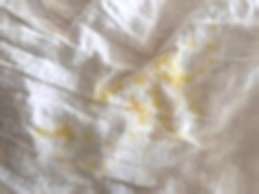mustard: (92, 67, 143, 108), (184, 88, 210, 129), (170, 62, 202, 88), (155, 103, 177, 138), (149, 51, 171, 81), (132, 95, 155, 123), (55, 162, 101, 175), (144, 86, 163, 113), (40, 124, 75, 138), (78, 135, 109, 145), (205, 42, 220, 58), (187, 39, 198, 48), (207, 25, 219, 31)
